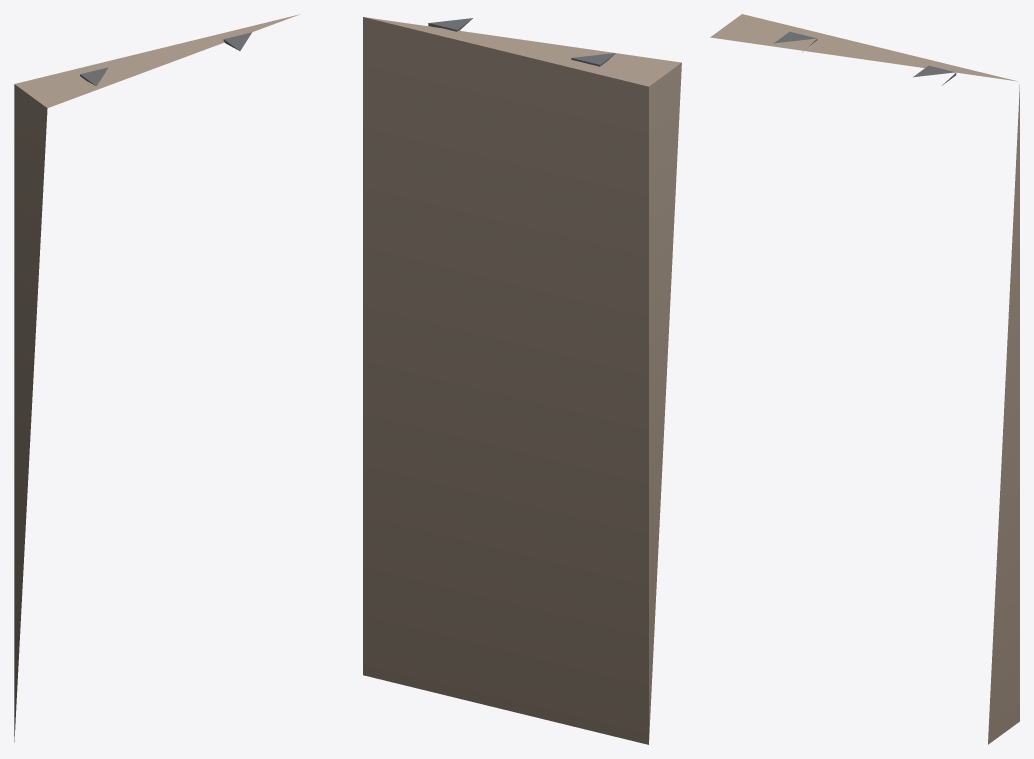
Rendered from wall12_regocrete_meshin.glb.
3 renders of one model, left to right at view 1: azimuth 30°, elevation 25°; view 2: azimuth 150°, elevation 25°; view 3: azimuth 330°, elevation 25°, orthographic. The views are drawn at different scales.
Parts seen in each view (by area): view 1: wall12_regocrete_meshin; view 2: wall12_regocrete_meshin; view 3: wall12_regocrete_meshin.
Part boxes in pixels (x1,y1,x2,y2): wall12_regocrete_meshin: [14, 14, 299, 742]; wall12_regocrete_meshin: [363, 17, 681, 744]; wall12_regocrete_meshin: [710, 14, 1019, 744].
Bounding box in the file's own units: 1 × 2.21 × 0.2.
